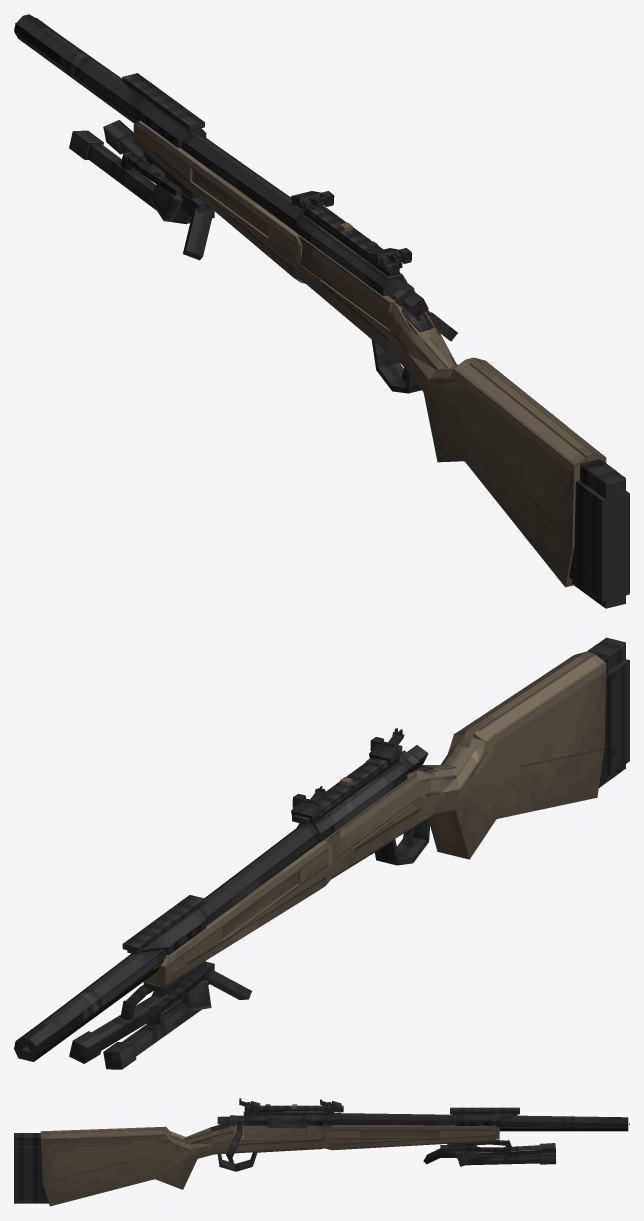
3 renders of one model, top to bottom at view 1: azimuth 30°, elevation 25°; view 2: azimuth 150°, elevation 25°; view 3: azimuth 270°, elevation 25°, orthographic. The views are drawn at different scales.
Visible parts, largest first — view 1: gun_1, coL, gun_23, bolt2_5, coR; view 2: gun_1, coL, coR, ironsights_9, ironsights_17, gun_23; view 3: gun_1, coR, bolt2_5, coL, gun_23, ironsights_9, ironsights_17.
Part boxes in pixels (x1,y1,x2,y2): gun_1: (14,14,629,608); coL: (69,130,197,224); gun_23: (180,192,214,260); bolt2_5: (385,278,457,341); coR: (103,120,191,223); gun_1: (14,637,629,1061); coL: (103,961,211,1069); coR: (69,985,168,1063); ironsights_9: (369,728,404,765); ironsights_17: (291,786,326,822); gun_23: (203,962,251,999); gun_1: (14,1105,628,1206); coR: (456,1147,556,1166); bolt2_5: (217,1115,305,1157); coL: (447,1140,556,1159); gun_23: (423,1145,457,1164); ironsights_9: (239,1098,260,1113); ironsights_17: (320,1099,341,1113).
Bounding box in the file's own units: 0.6377 × 1.47 × 7.97.
